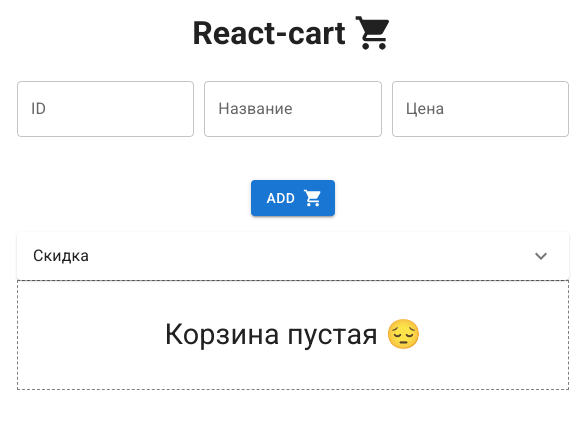
Test: Корзина › renders an empty state and validates required fields
expect the text "Корзина пустая 😔" is shown: met, box [164,317,422,351]
What coordinates should you click on to do the following:
click the button "Add"
I would click on:
 (293, 198)
Its box is [251,180,335,216].
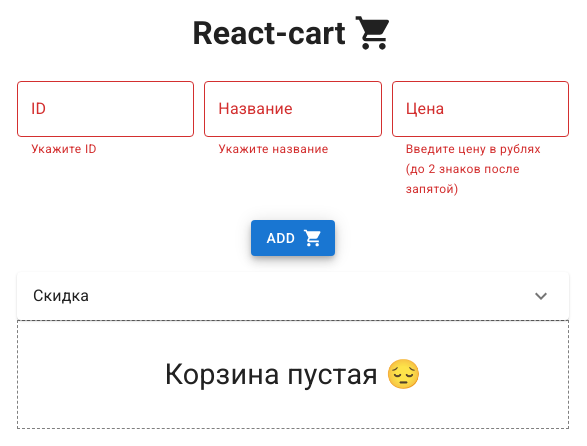
expect the text "Укажите ID" is shown: met, box [31,142,97,156]
expect the text "Укажите название" is shown: met, box [218,142,329,156]
expect the text "Введите цену в рублях (до 2 знаков после запятой)" is shown: met, box [406,140,555,200]
